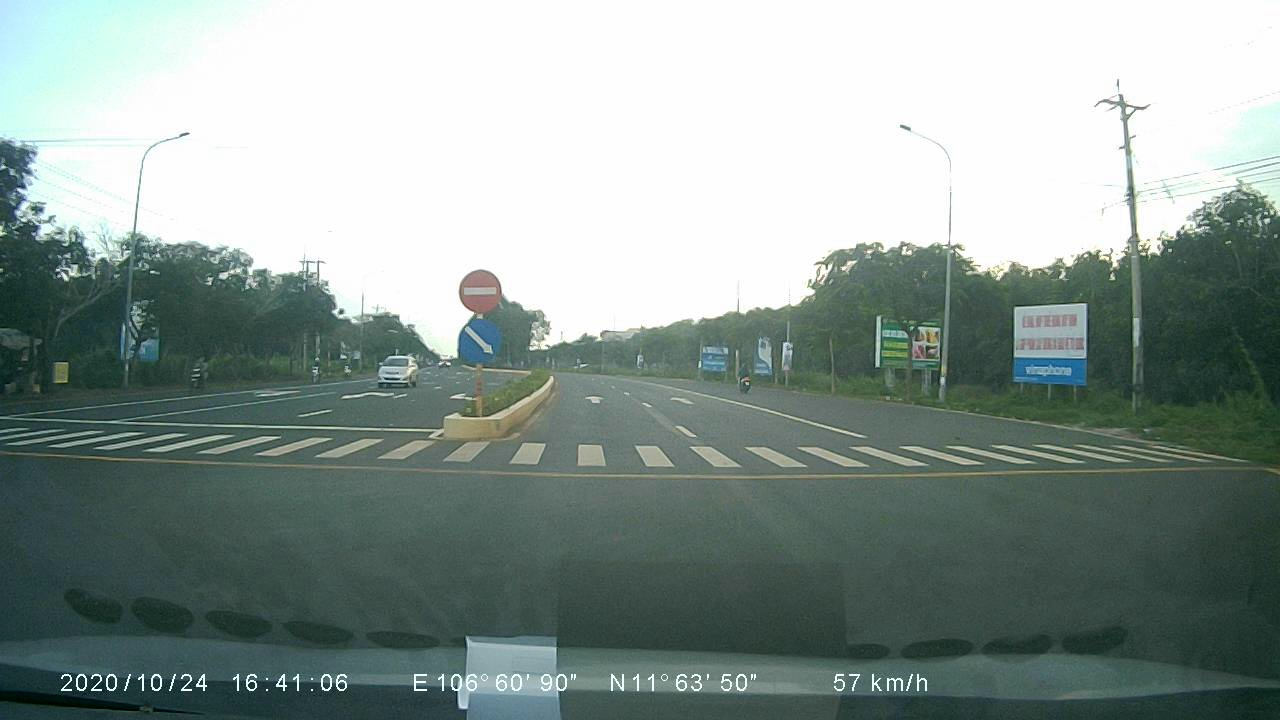Cam di nguoc chieu: (455, 262, 502, 313)
Huong di phai re phai: (456, 316, 504, 365)
